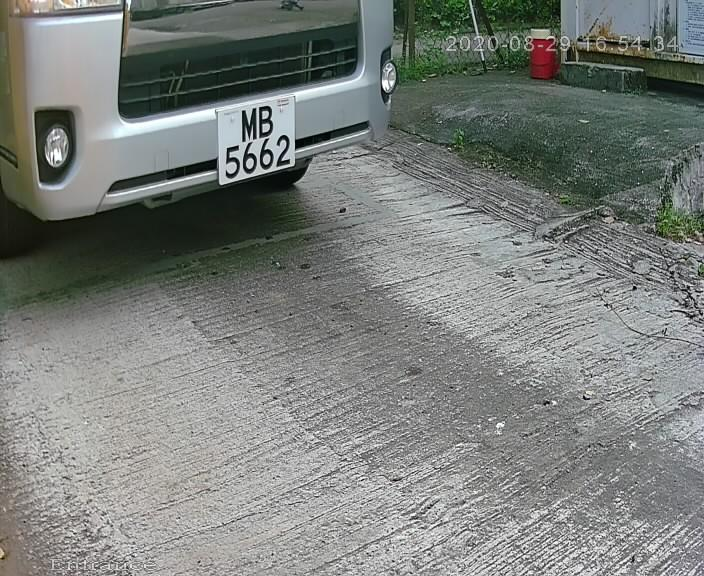License Plate: (208, 93, 309, 196)
